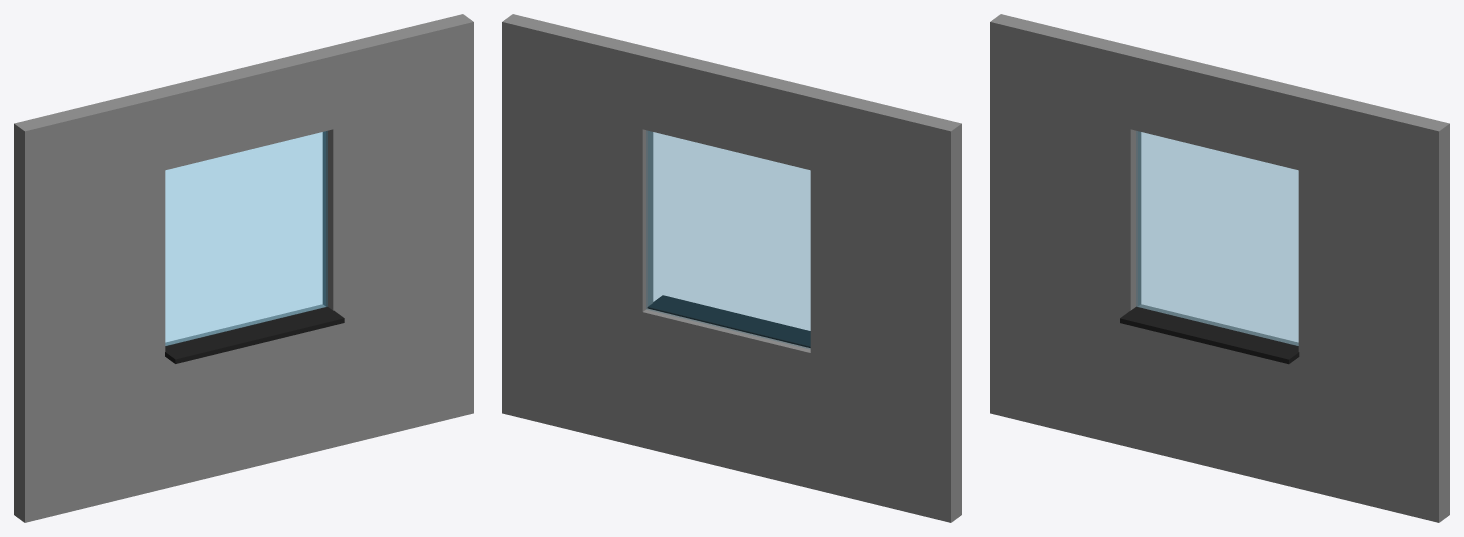
File: SM_wall_stationshop_02.fbx
3 renders of one model, left to right at view 1: azimuth 30°, elevation 25°; view 2: azimuth 150°, elevation 25°; view 3: azimuth 330°, elevation 25°, orthographic.
Visible parts, largest first — view 1: wall_stationshop_02; view 2: wall_stationshop_02; view 3: wall_stationshop_02.
Part boxes in pixels (x1=…): wall_stationshop_02: x1=14, y1=14, x2=473, y2=522; wall_stationshop_02: x1=502, y1=14, x2=961, y2=522; wall_stationshop_02: x1=990, y1=14, x2=1449, y2=522.
Bounding box in the file's own units: 300 × 250 × 24.49.
